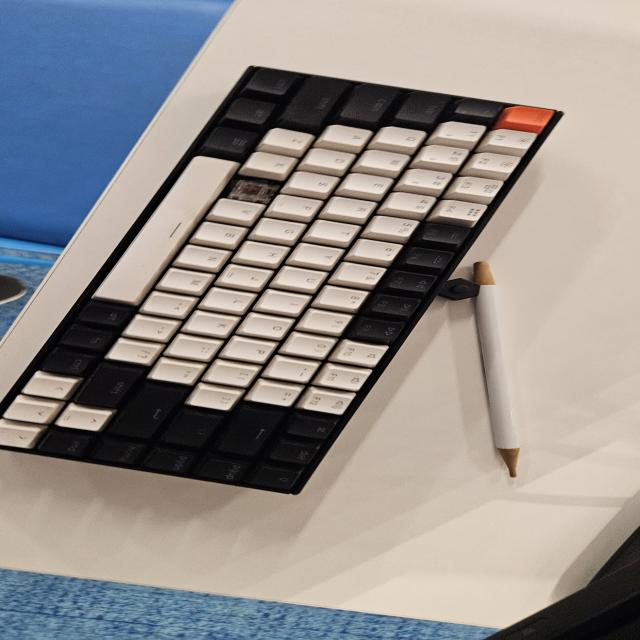C: (231, 180, 268, 200)
